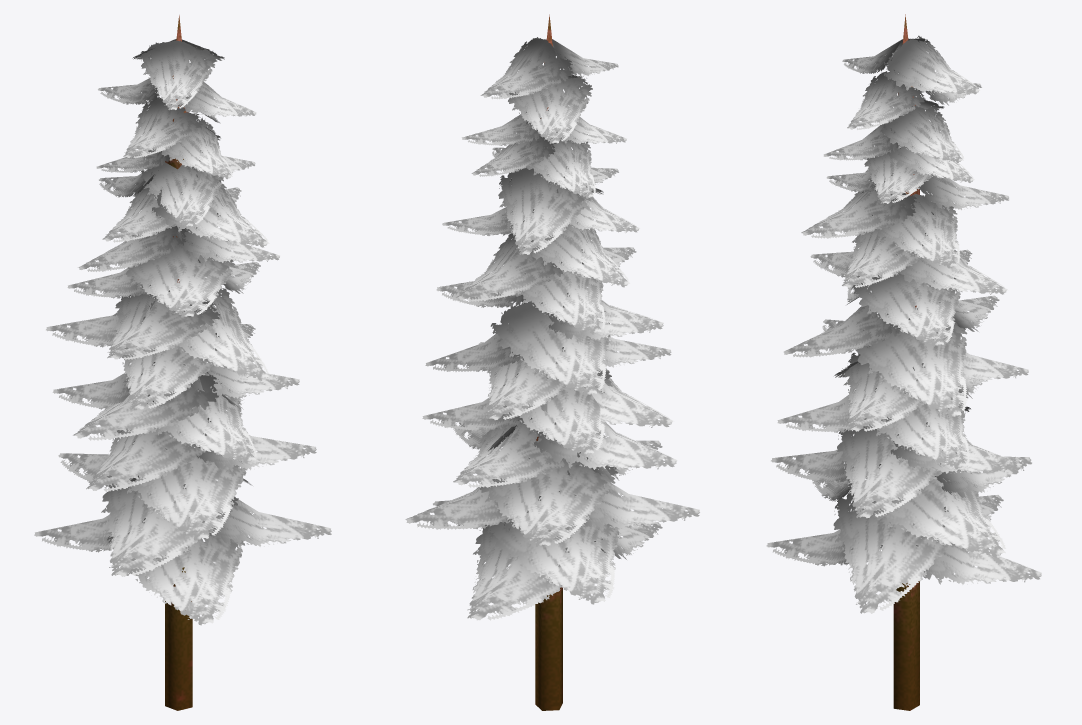
The model's file is Pine2.fbx.
The picture shows the model from 3 angles, left to right: view 1: azimuth 30°, elevation 25°; view 2: azimuth 150°, elevation 25°; view 3: azimuth 270°, elevation 25°; orthographic projection.
Parts seen in each view (by area): view 1: Pine2_LOD0; view 2: Pine2_LOD0; view 3: Pine2_LOD0.
Boxes of the visible parts, <box> form: Pine2_LOD0: <box>34,15,331,710</box>; Pine2_LOD0: <box>405,14,699,710</box>; Pine2_LOD0: <box>766,14,1041,710</box>.
Size of what is drawn, in the model's own units: 2.34 by 5.21 by 2.21.
Materials: 2 (2 with a texture image).
